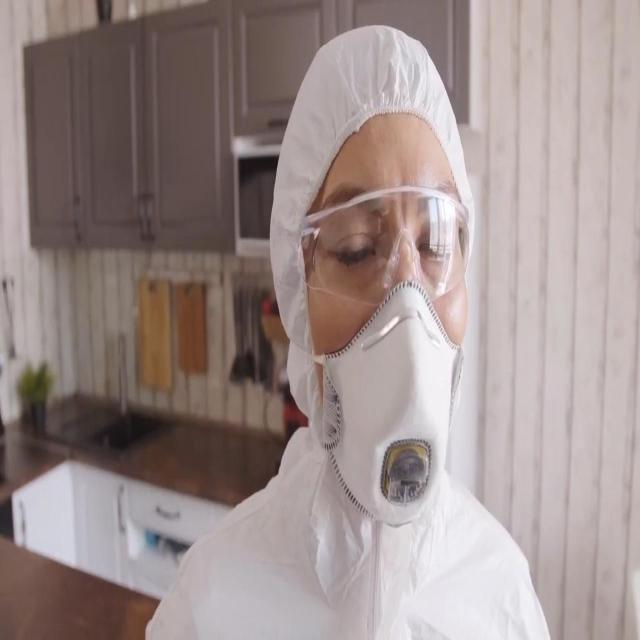no-helmet: (303, 160, 469, 527)
